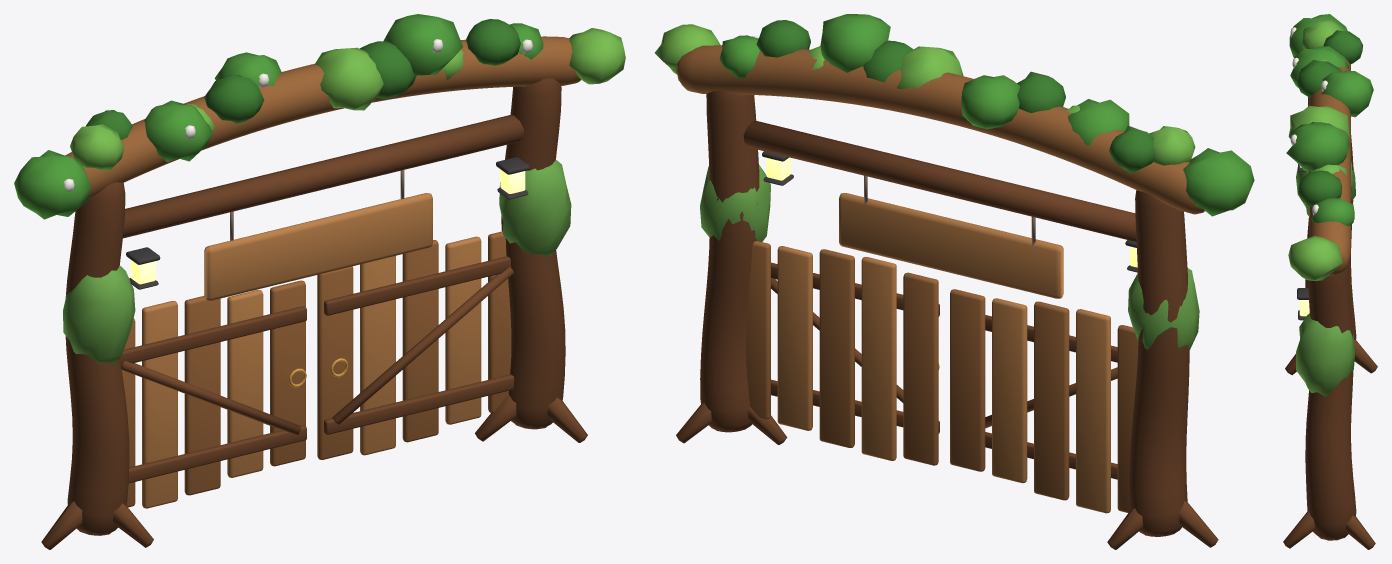
Rendered from prop_forest_gate_v02.glb.
3 views of the same model, side by side, from view 1: azimuth 30°, elevation 25°; view 2: azimuth 150°, elevation 25°; view 3: azimuth 270°, elevation 25° (orthographic). The views are drawn at different scales.
Parts seen in each view (by area): view 1: prop_forest_gate_v02; view 2: prop_forest_gate_v02; view 3: prop_forest_gate_v02.
Part boxes in pixels (bbox=[...]): prop_forest_gate_v02: bbox=[14, 14, 625, 549]; prop_forest_gate_v02: bbox=[655, 14, 1254, 549]; prop_forest_gate_v02: bbox=[1283, 14, 1377, 549].
Size of the model in its own units: 6.35 by 4.48 by 1.06.
Materials: 2 (1 with a texture image).
